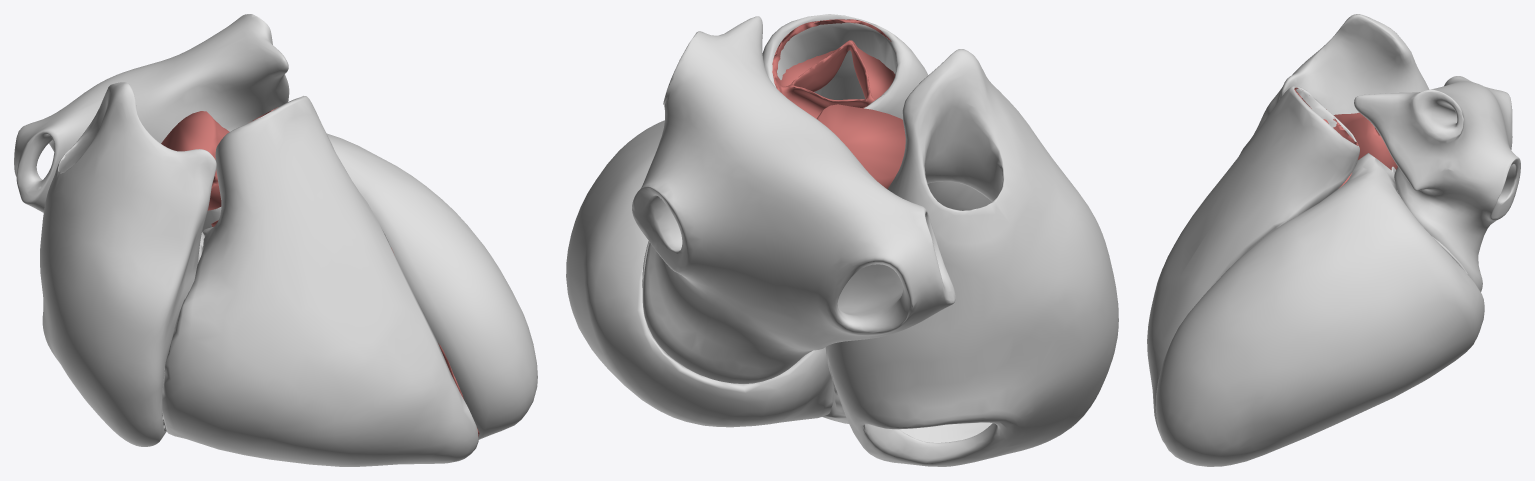
File: vh_m_heart-40.fbx
The picture shows the model from 3 angles, left to right: view 1: azimuth 30°, elevation 25°; view 2: azimuth 150°, elevation 25°; view 3: azimuth 270°, elevation 25°; orthographic projection. The views are drawn at different scales.
Parts seen in each view (by area): view 1: VH_M_heart_right_ventricle, VH_M_right_cardiac_atrium, VH_M_heart_left_ventricle, VH_M_left_cardiac_atrium, VH_M_aortic_valve; view 2: VH_M_left_cardiac_atrium, VH_M_right_cardiac_atrium, VH_M_heart_left_ventricle, VH_M_heart_right_ventricle, VH_M_pulmonary_valve, VH_M_aortic_valve; view 3: VH_M_heart_left_ventricle, VH_M_heart_right_ventricle, VH_M_left_cardiac_atrium, VH_M_right_cardiac_atrium, VH_M_aortic_valve.
Part boxes in pixels (bbox=[...]): VH_M_heart_right_ventricle: bbox=[162, 96, 478, 466]; VH_M_right_cardiac_atrium: bbox=[40, 82, 216, 446]; VH_M_heart_left_ventricle: bbox=[202, 133, 537, 439]; VH_M_left_cardiac_atrium: bbox=[14, 14, 289, 212]; VH_M_aortic_valve: bbox=[161, 111, 229, 210]; VH_M_left_cardiac_atrium: bbox=[632, 16, 955, 383]; VH_M_right_cardiac_atrium: bbox=[825, 49, 1118, 466]; VH_M_heart_left_ventricle: bbox=[566, 120, 833, 427]; VH_M_heart_right_ventricle: bbox=[762, 14, 928, 423]; VH_M_pulmonary_valve: bbox=[772, 19, 895, 118]; VH_M_aortic_valve: bbox=[817, 104, 905, 189]; VH_M_heart_left_ventricle: bbox=[1155, 153, 1484, 466]; VH_M_heart_right_ventricle: bbox=[1147, 86, 1359, 442]; VH_M_left_cardiac_atrium: bbox=[1354, 76, 1520, 291]; VH_M_right_cardiac_atrium: bbox=[1239, 14, 1429, 155]; VH_M_aortic_valve: bbox=[1334, 112, 1397, 169].
Bounding box in the file's own units: 12.43 × 10.54 × 10.53.
